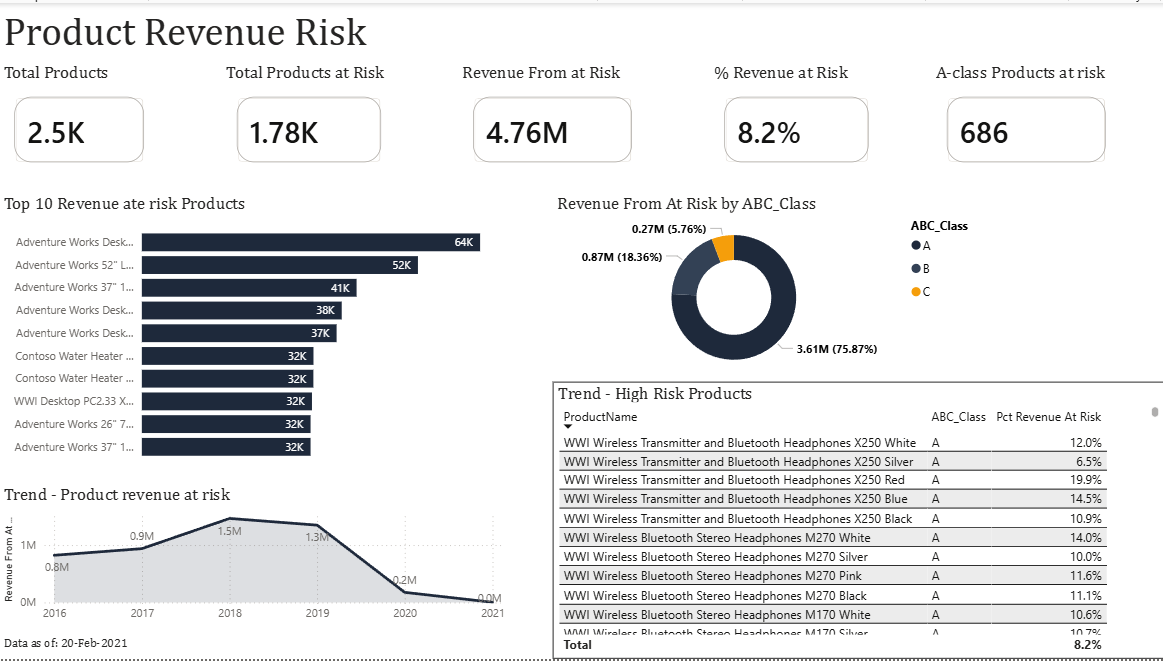

The dashboard page shown, as its layout file describes it:
{"tool":"powerbi","page":{"name":"Page 3","canvas":[1280,720],"ordinal":2},"visuals":[{"type":"textbox","box":[0,0,448,64],"z":0},{"type":"cardVisual","title":"Total Products at Risk","fields":{"Data":["_Measures.At risk products"]},"box":[244,64,192,128],"z":1000},{"type":"cardVisual","title":"Total Products","fields":{"Data":["_Measures.Total Products"]},"box":[0,64,176,128],"z":2000},{"type":"cardVisual","title":"Revenue From at Risk","fields":{"Data":["_Measures.Revenue From At Risk"]},"box":[504,64,208,128],"z":3000},{"type":"cardVisual","title":"% Revenue at Risk","fields":{"Data":["_Measures.Pct Revenue At Risk"]},"box":[780,64,192,128],"z":4000},{"type":"cardVisual","title":"A-class Products at risk","fields":{"Data":["_Measures.A class products at risk"]},"box":[1024,64,208,128],"z":5000},{"type":"clusteredBarChart","title":"Top 10 Revenue ate risk Products","fields":{"Category":["DimProduct.ProductName"],"Y":["_Measures.Revenue From At Risk"]},"box":[0,208,576,304],"z":6000},{"type":"donutChart","fields":{"Category":["vw_ProductABC.ABC_Class"],"Y":["_Measures.Revenue From At Risk"]},"box":[608,208,480,208],"z":7000},{"type":"lineChart","title":"Trend - Product revenue at risk","fields":{"Y":["_Measures.Revenue From At Risk"],"Category":["FactSales.Order Date.Variation.Date Hierarchy.Year"]},"box":[0,528,560,160],"z":8000},{"type":"tableEx","title":"Trend - High Risk Products","fields":{"Values":["vw_ProductABC.ProductName","vw_ProductABC.ABC_Class","_Measures.Pct Revenue At Risk"]},"box":[608,416,672,304],"z":9000},{"type":"textbox","box":[0,688,160,32],"z":10000}]}

Visuals, with their boxes in screenshot pixels (x1, y1, x2, y2), scaled from the page's 1280x720 canvas onto the 1163x661 screenshot:
textbox: box=[0, 0, 407, 59]
"Total Products at Risk" cardVisual: box=[222, 59, 396, 176]
"Total Products" cardVisual: box=[0, 59, 160, 176]
"Revenue From at Risk" cardVisual: box=[458, 59, 647, 176]
"% Revenue at Risk" cardVisual: box=[709, 59, 883, 176]
"A-class Products at risk" cardVisual: box=[930, 59, 1119, 176]
"Top 10 Revenue ate risk Products" clusteredBarChart: box=[0, 191, 523, 470]
donutChart - vw_ProductABC.ABC_Class x _Measures.Revenue From At Risk: box=[552, 191, 989, 382]
"Trend - Product revenue at risk" lineChart: box=[0, 485, 509, 632]
"Trend - High Risk Products" tableEx: box=[552, 382, 1162, 660]
textbox: box=[0, 632, 145, 660]
